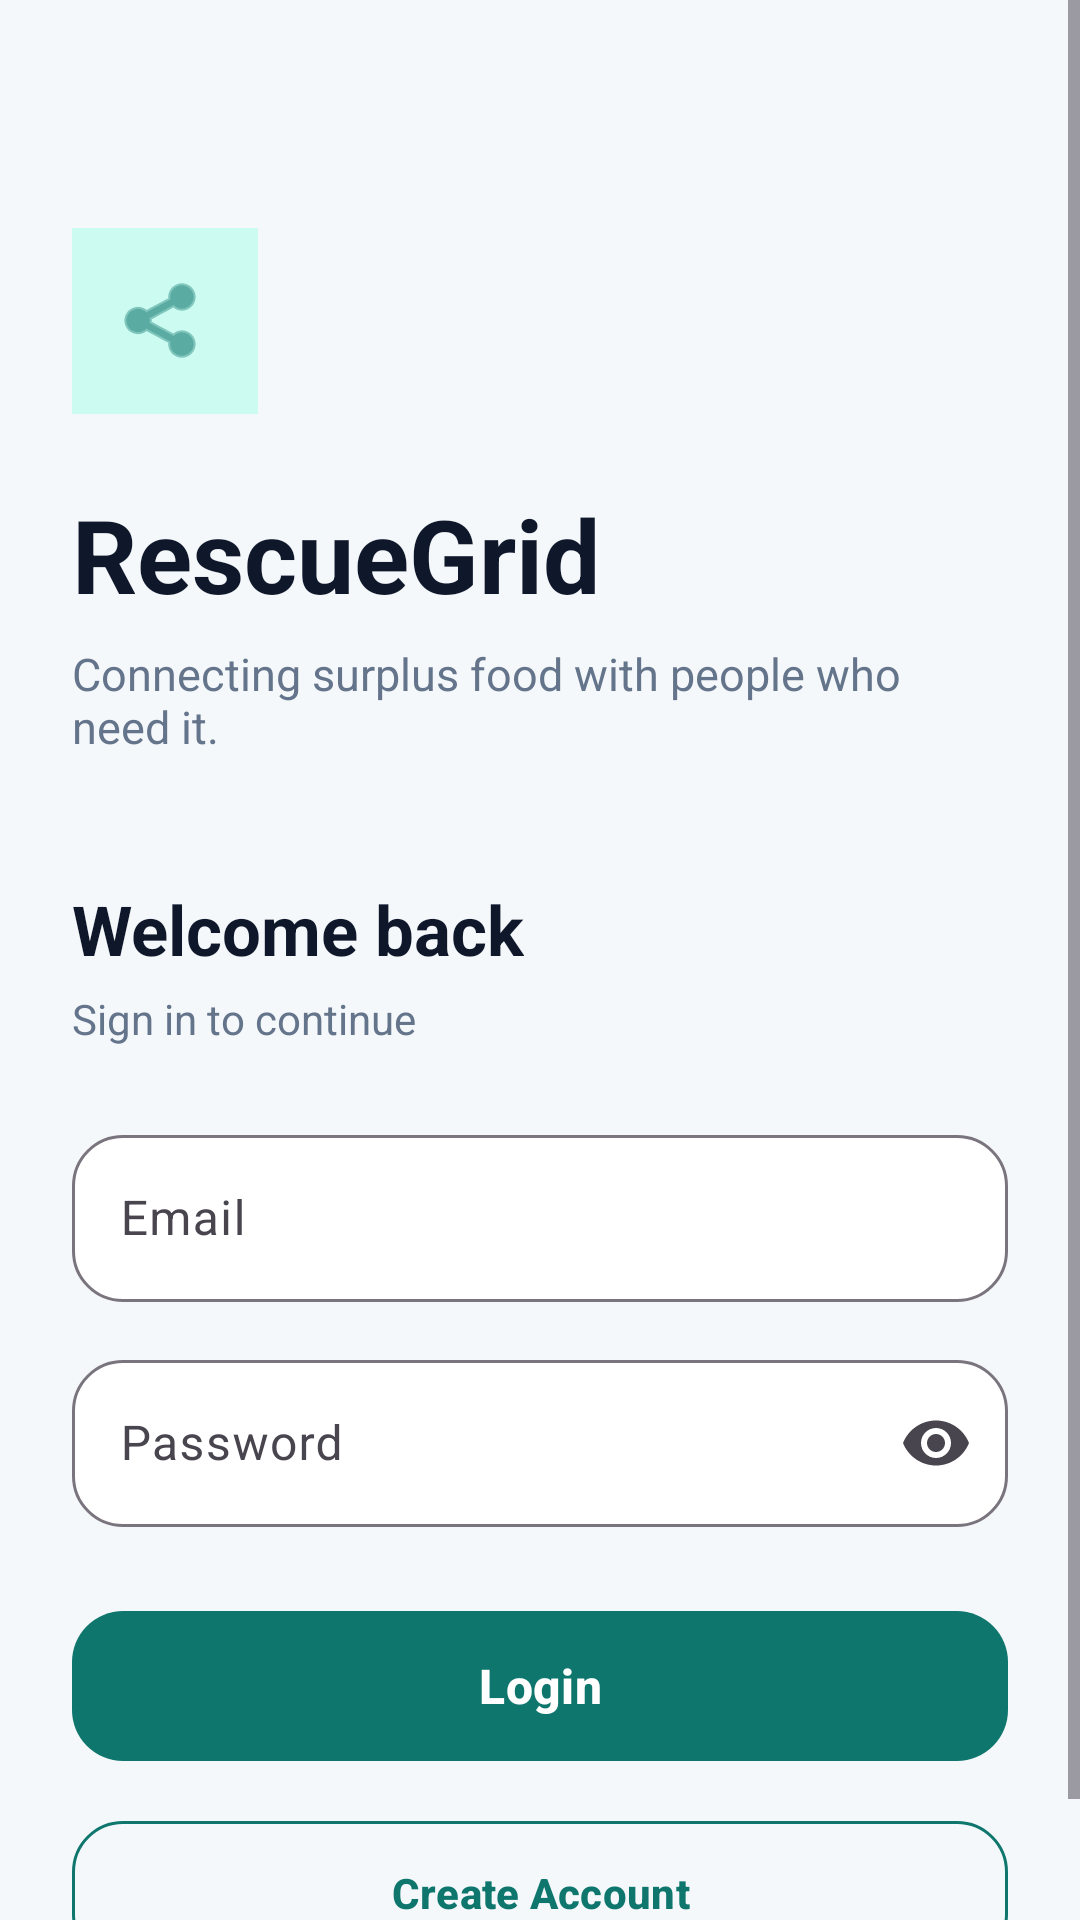

Screen size 1080×1920. Icon name, then its box in pixels as (x1, y1, x2, y2):
share: (124, 283, 196, 358)
